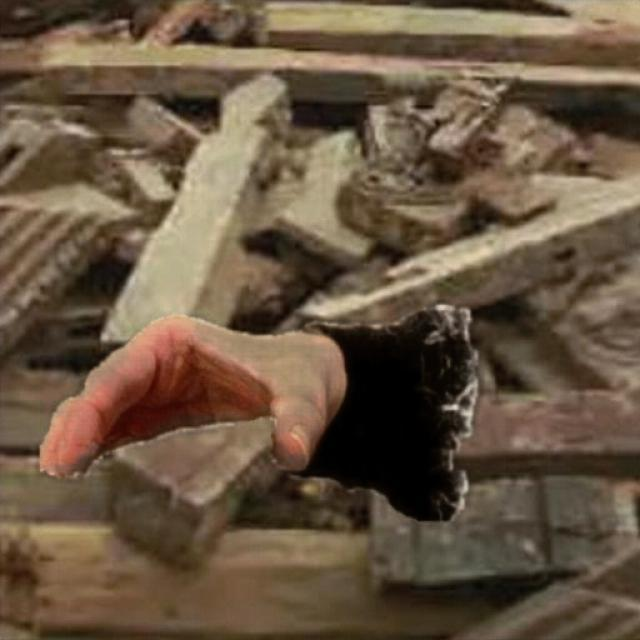Person in Rubble: (40, 305, 476, 520)
